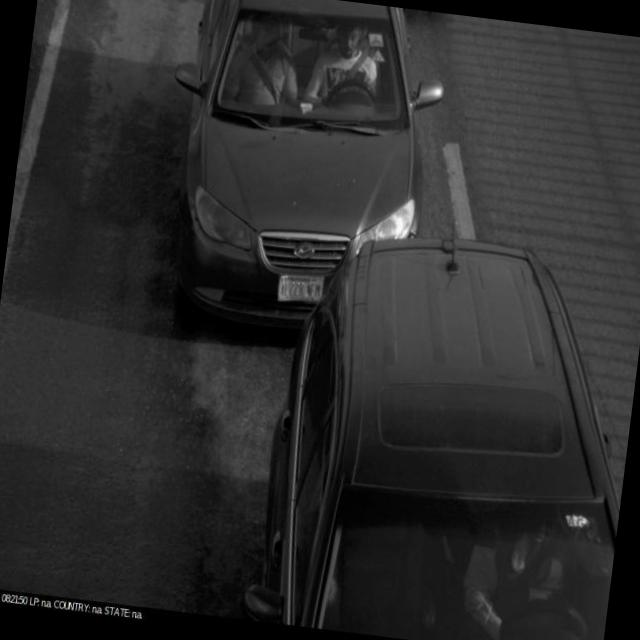person_with_seatbelt: (302, 10, 395, 131)
